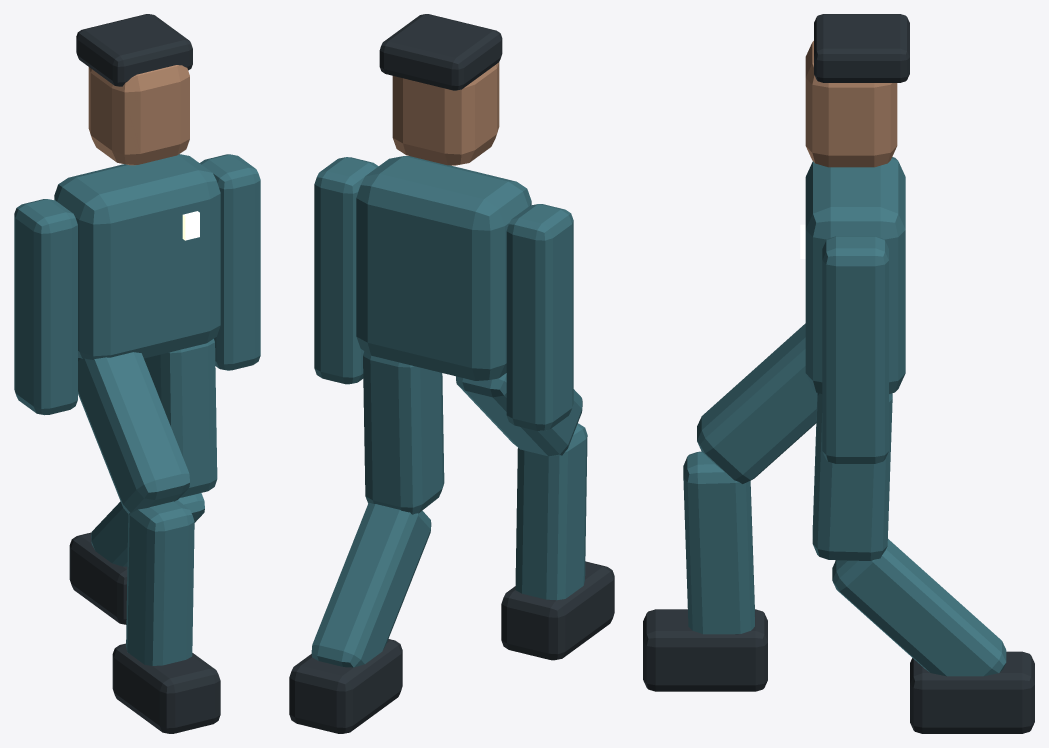
The model's file is citizen-Dey3Rofx.glb.
3 views of the same model, side by side, from view 1: azimuth 30°, elevation 25°; view 2: azimuth 150°, elevation 25°; view 3: azimuth 270°, elevation 25° (orthographic). The views are drawn at different scales.
Visible parts, largest first — view 1: torso, arm_l, leg_l, shin_l, arm_r, head, leg_r, shoe_l, hair, shoe_r, shin_r, badge; view 2: torso, arm_l, leg_r, shin_r, shin_l, arm_r, head, shoe_r, shoe_l, hair, leg_l; view 3: arm_r, torso, shin_r, shin_l, leg_l, shoe_l, shoe_r, leg_r, head, hair.
Part boxes in pixels (x1,y1,x2,y2): torso: (54, 154, 220, 359); arm_l: (14, 199, 77, 415); leg_l: (78, 352, 189, 514); shin_l: (126, 500, 194, 665); arm_r: (200, 154, 260, 370); head: (88, 65, 189, 165); leg_r: (144, 339, 217, 497); shoe_l: (112, 643, 220, 733); hair: (76, 14, 192, 86); shoe_r: (69, 532, 127, 624); shin_r: (91, 493, 204, 566); badge: (182, 211, 199, 240); torso: (356, 156, 531, 381); arm_l: (506, 204, 573, 430); leg_r: (363, 351, 444, 514); shin_r: (311, 502, 431, 667); shin_l: (515, 423, 587, 600); arm_r: (314, 157, 378, 384); head: (392, 62, 499, 165); shoe_r: (289, 639, 402, 733); shoe_l: (501, 561, 614, 660); hair: (379, 14, 502, 90); leg_l: (456, 373, 582, 456); arm_r: (822, 236, 888, 463); torso: (805, 157, 905, 393); shin_r: (832, 539, 1006, 676); shin_l: (683, 451, 754, 634); leg_l: (697, 323, 817, 483); shoe_l: (643, 609, 767, 691); shoe_r: (910, 651, 1034, 733); leg_r: (812, 393, 892, 560); head: (805, 41, 897, 167); hair: (814, 14, 909, 82).
Bounding box in the file's own units: 0.682 × 1.78 × 0.94.
